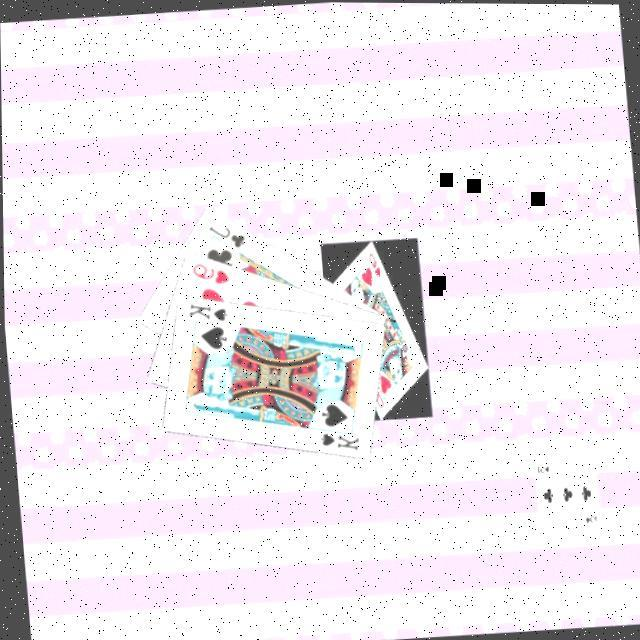9H: (188, 257, 234, 288)
JC: (206, 219, 250, 252)
KS: (313, 422, 362, 455), (184, 297, 231, 326)
